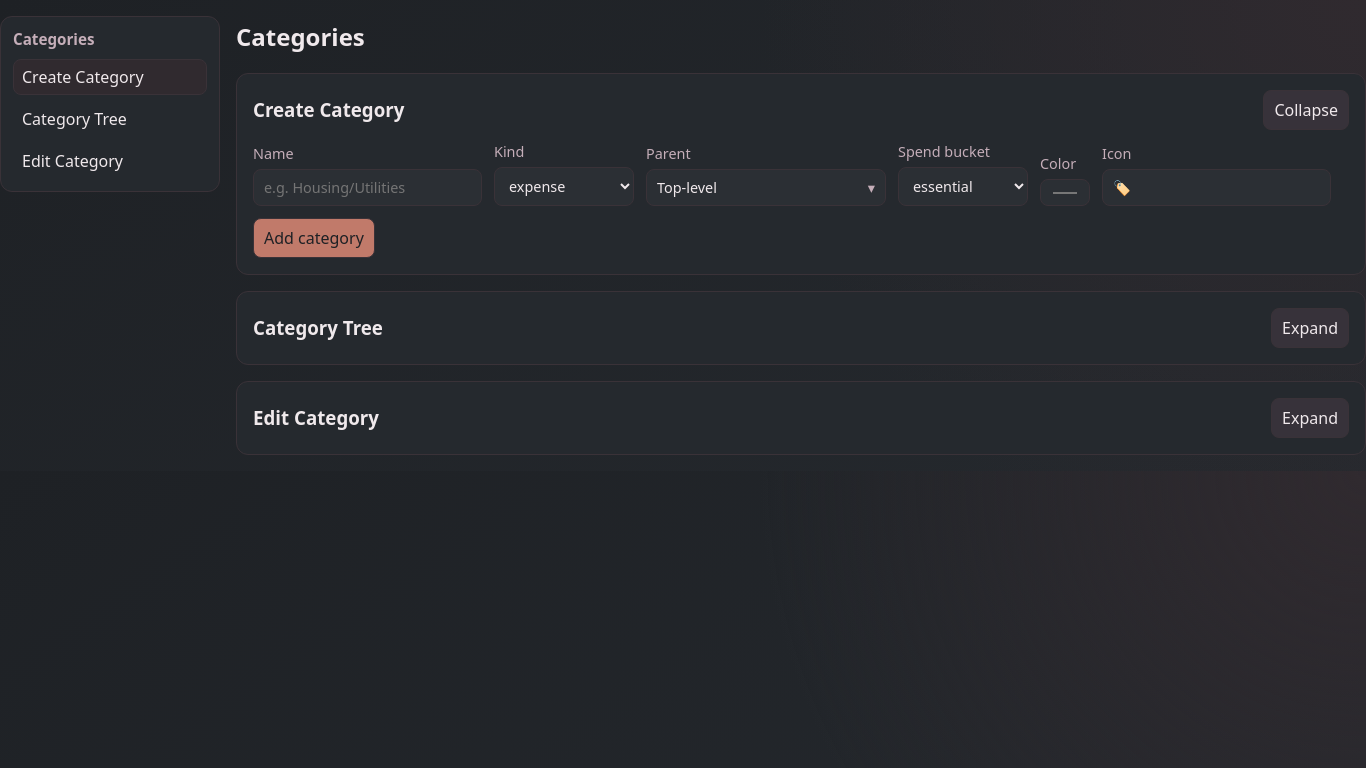
Test case: CategoriesPage › renders nested category tree nodes
This screenshot has width=1366, height=768.
expect the element "Category Tree" is shown: met, box x1=236 y1=291 x2=1365 y2=365
Click the 1st button titled "Expand Category Tree" at [1310, 328], box x1=1271 y1=308 x2=1349 y2=348
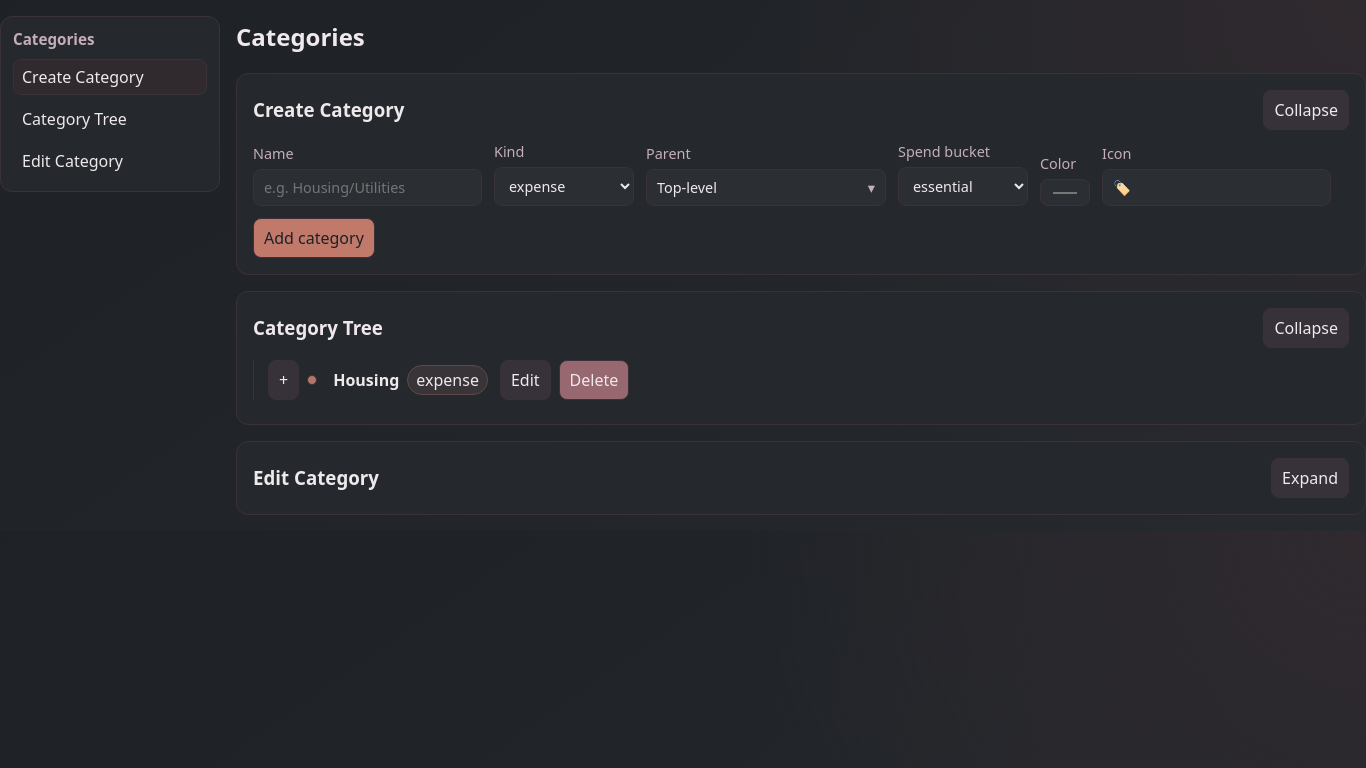
expect the text "Housing" is shown: met, box x1=333 y1=369 x2=399 y2=391
Click the button named "Toggle children" at [284, 380], box x1=268 y1=360 x2=299 y2=400
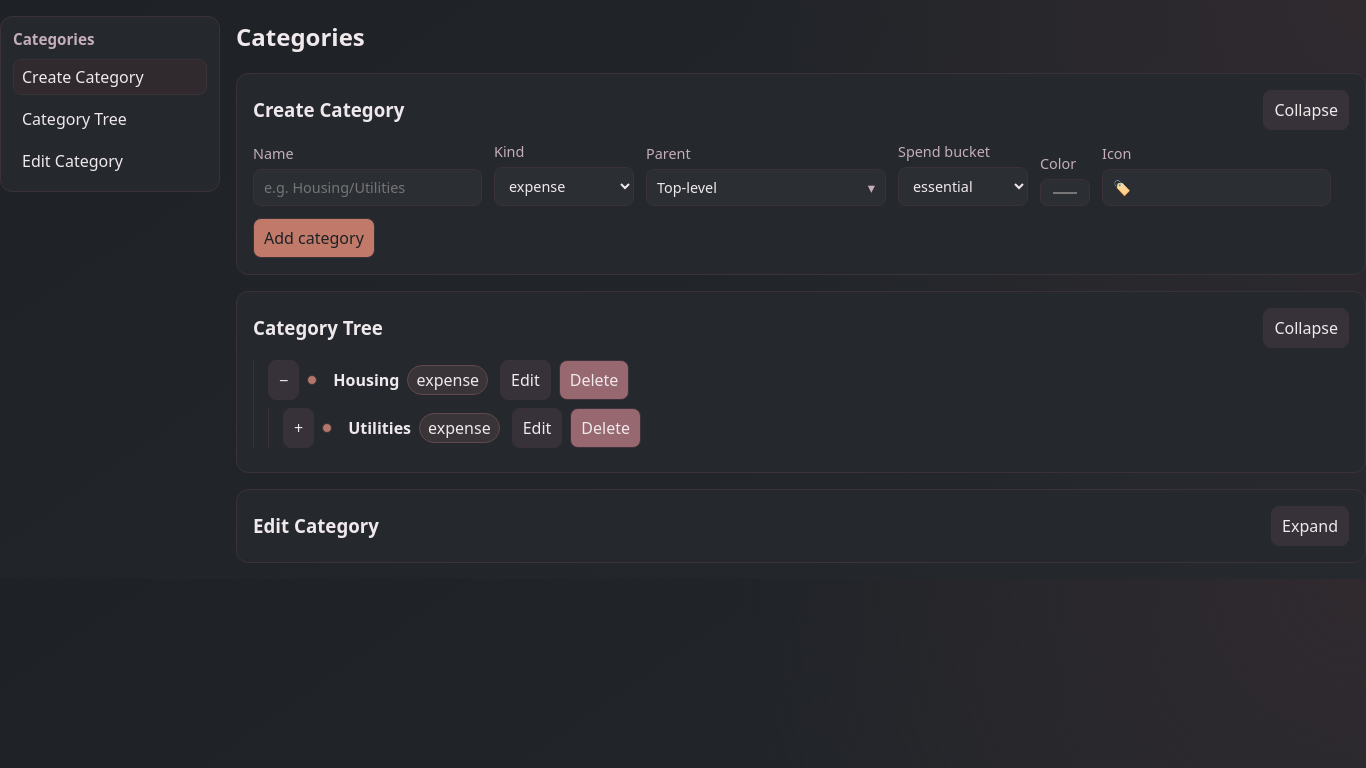
expect the text "Utilities" is shown: met, box x1=348 y1=417 x2=411 y2=439
Click the button named "Toggle children" at [299, 428], box x1=283 y1=408 x2=314 y2=448
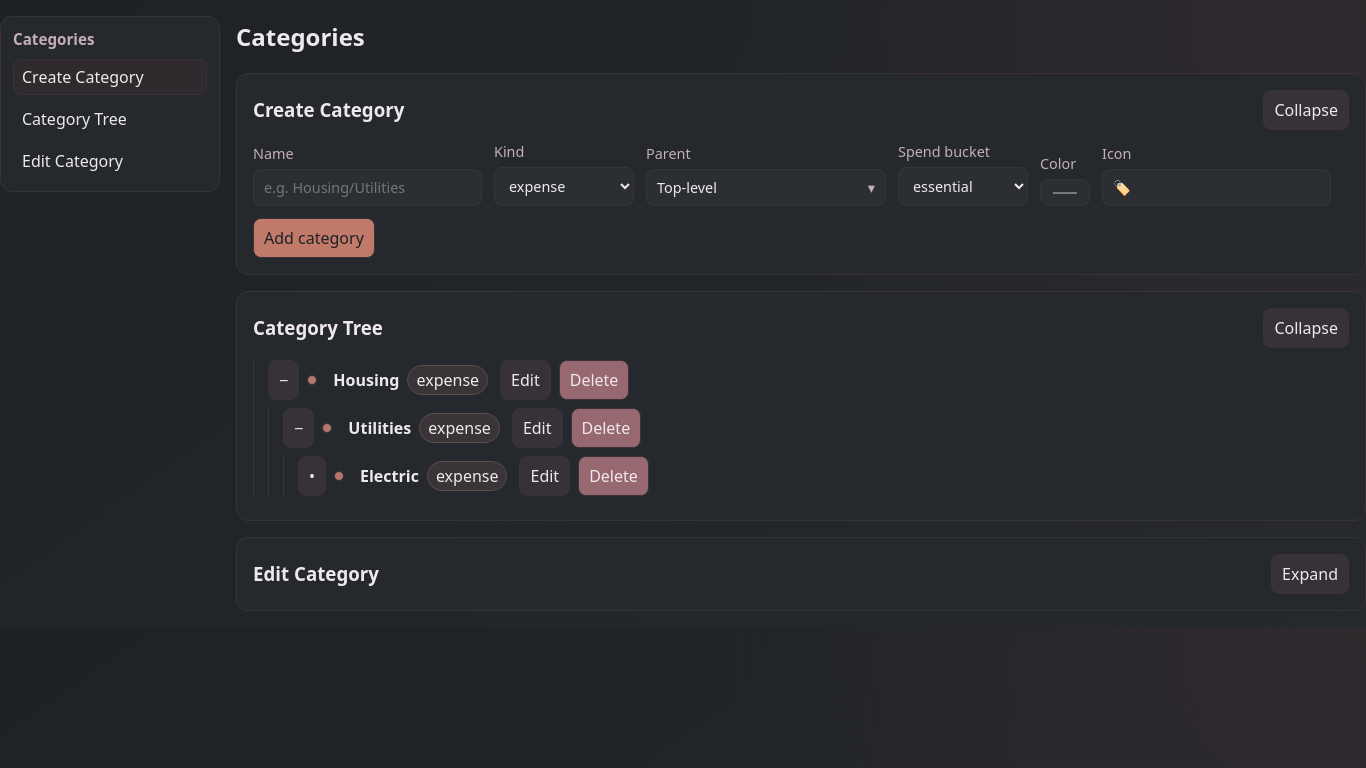
expect the text "Electric" is shown: met, box x1=360 y1=465 x2=419 y2=487
